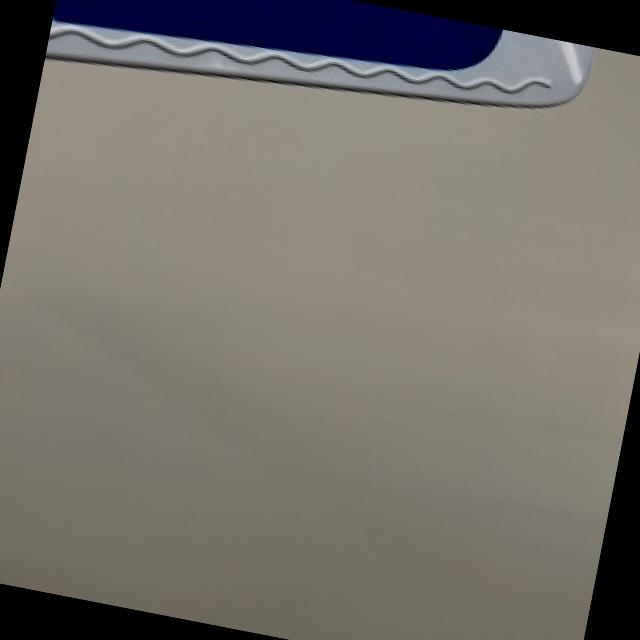healthy: (45, 18, 593, 104)
